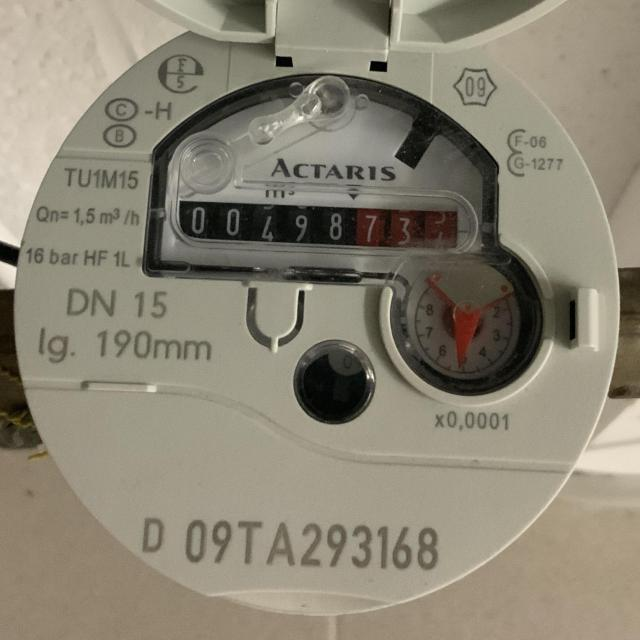gaz_meter: (18, 24, 620, 614)
indication: (179, 200, 459, 252)
